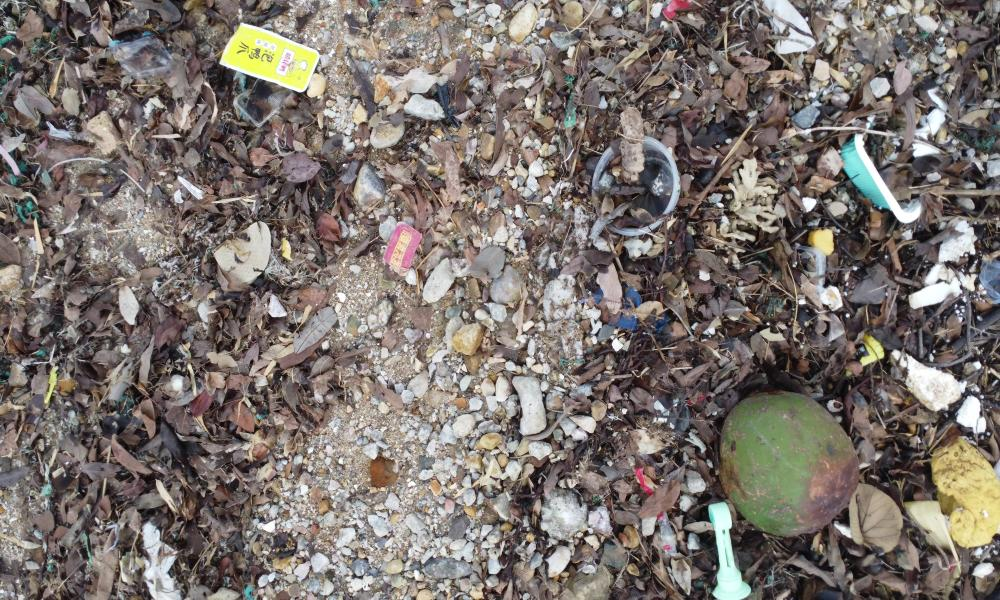plastic container: (225, 24, 322, 94)
